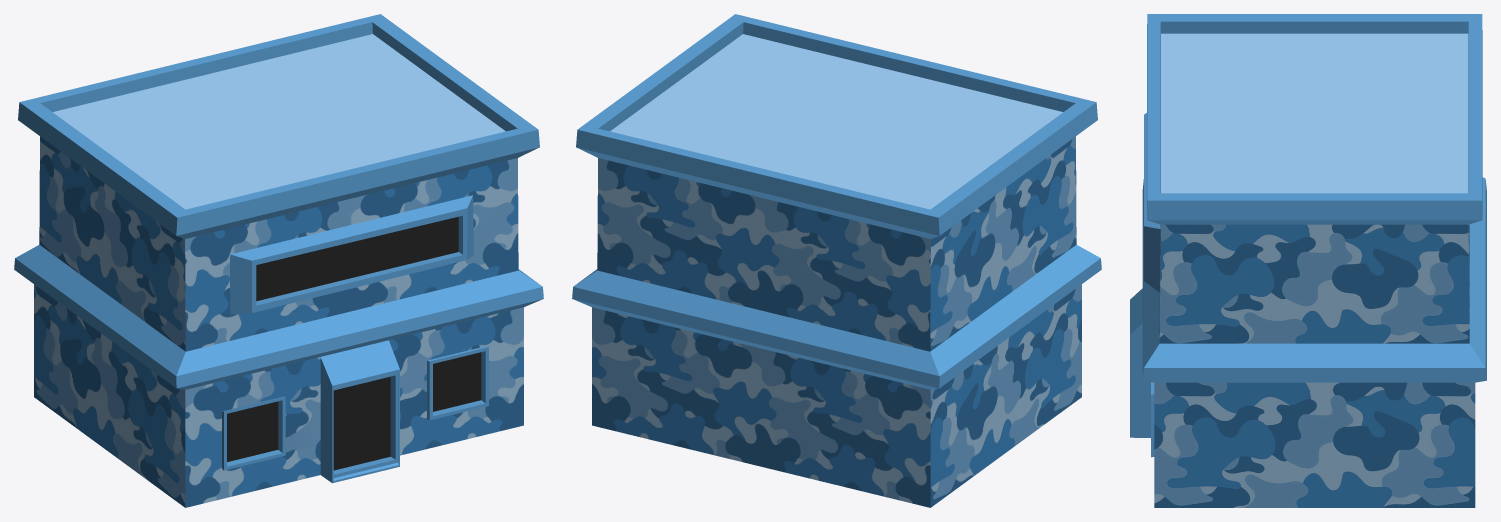
Rendered from Base 3 Gun.fbx.
The picture shows the model from 3 angles, left to right: view 1: azimuth 30°, elevation 25°; view 2: azimuth 150°, elevation 25°; view 3: azimuth 270°, elevation 25°; orthographic projection. The views are drawn at different scales.
Visible parts, largest first — view 1: Base_3; view 2: Base_3; view 3: Base_3.
Boxes of the visible parts, box(x1,y1,x2,y2) form: Base_3: box(14, 14, 543, 507); Base_3: box(572, 14, 1101, 507); Base_3: box(1130, 14, 1486, 507).
Size of the model in its own units: 455 by 350 by 362.
1 material, 1 textured.
